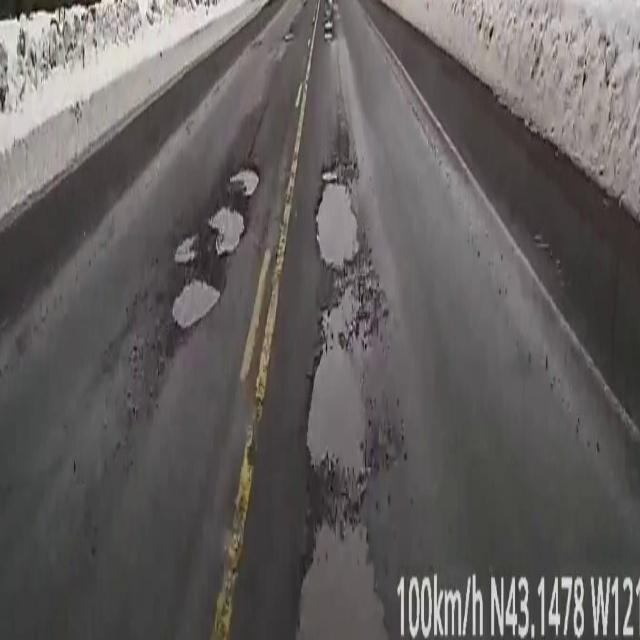pothole: (288, 166, 387, 640), (172, 274, 220, 332), (210, 202, 244, 255), (175, 236, 198, 266), (324, 0, 334, 39), (247, 170, 257, 189)
